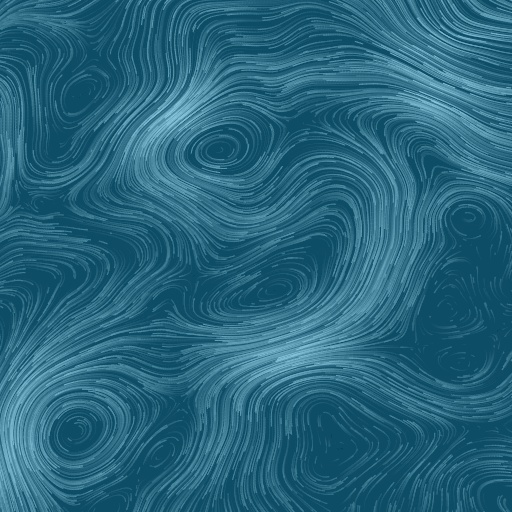eddy: (27, 381, 130, 483), (172, 107, 272, 193), (299, 397, 378, 488), (417, 256, 498, 337), (221, 255, 319, 316), (55, 63, 115, 122), (439, 191, 497, 246), (136, 429, 183, 474), (431, 345, 492, 379)
